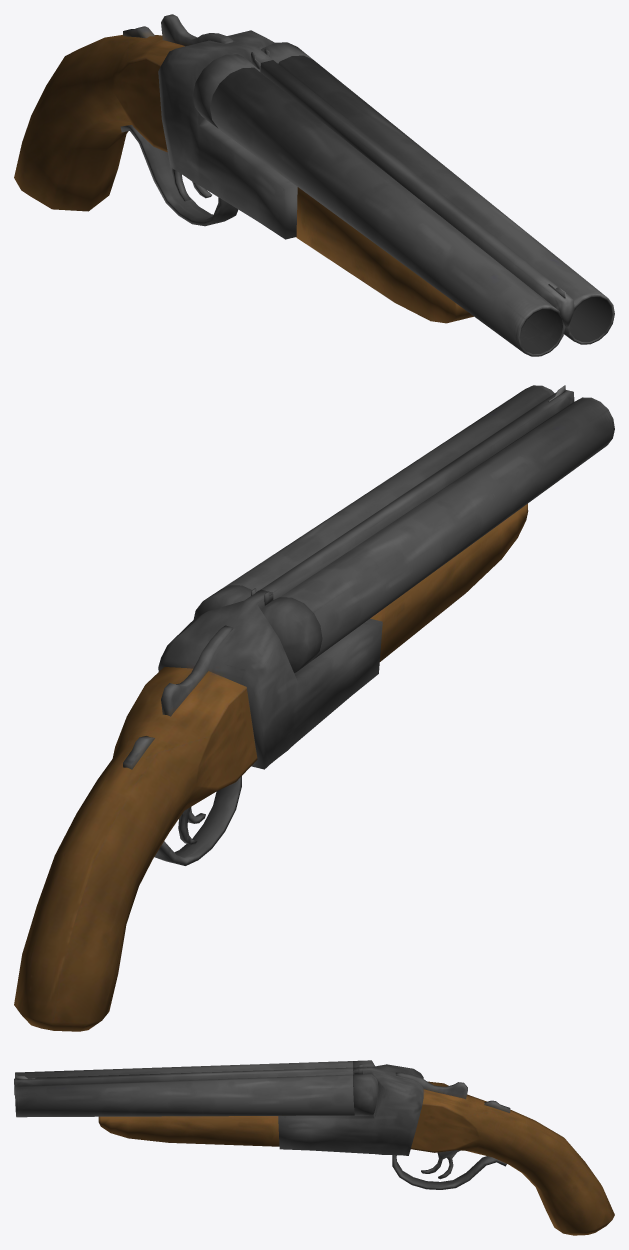
Rendered from SawedOffShotgun.fbx.
3 renders of one model, top to bottom at view 1: azimuth 30°, elevation 25°; view 2: azimuth 150°, elevation 25°; view 3: azimuth 270°, elevation 25°, orthographic. The views are drawn at different scales.
Parts seen in each view (by area): view 1: Sawed-offShotgunBarrel, SawedOffShotgun; view 2: SawedOffShotgun, Sawed-offShotgunBarrel; view 3: SawedOffShotgun, Sawed-offShotgunBarrel.
Part boxes in pixels (<box>): Sawed-offShotgunBarrel: <box>210,55,614,356</box>; SawedOffShotgun: <box>14,14,313,239</box>; SawedOffShotgun: <box>14,585,382,1031</box>; Sawed-offShotgunBarrel: <box>221,385,614,661</box>; SawedOffShotgun: <box>278,1060,614,1235</box>; Sawed-offShotgunBarrel: <box>14,1061,354,1146</box>.
Bounding box in the file's own units: 5.53 × 13.6 × 45.07.
